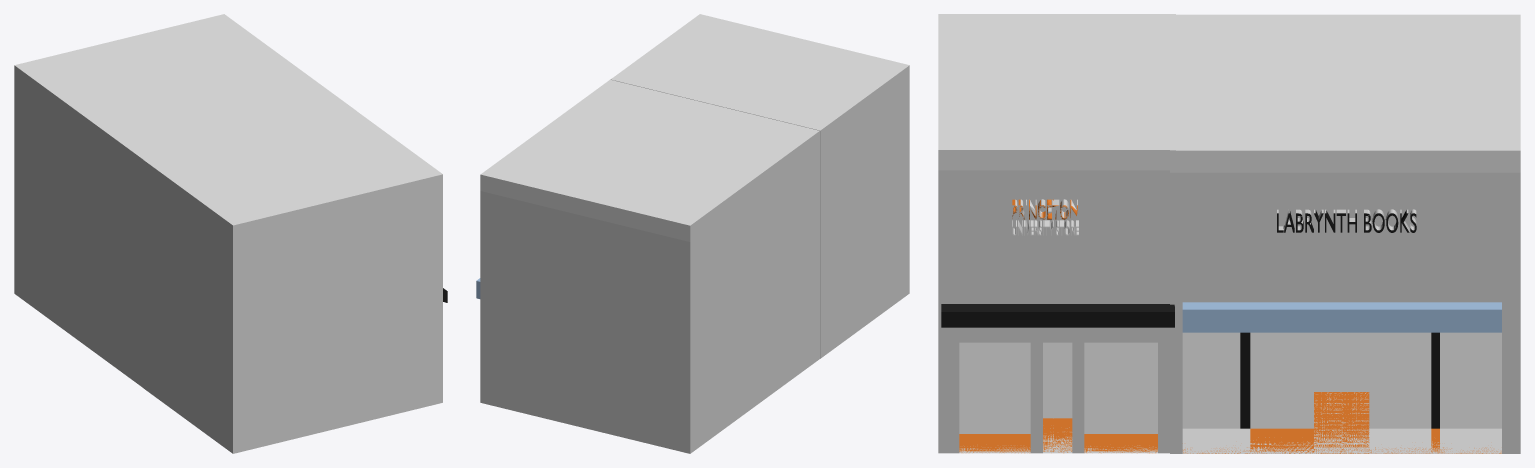
Rendered from Labyrinth.gltf.
The picture shows the model from 3 angles, left to right: view 1: azimuth 30°, elevation 25°; view 2: azimuth 150°, elevation 25°; view 3: azimuth 270°, elevation 25°; orthographic projection. The views are drawn at different scales.
Visible parts, largest first — view 1: Cube; view 2: Cube; view 3: Cube.
Boxes of the visible parts, box(x1,y1,x2,y2) form: Cube: box(14, 14, 447, 453); Cube: box(476, 14, 909, 453); Cube: box(938, 14, 1520, 453).
Size of the model in its own units: 21.32 by 21.03 by 36.53.
